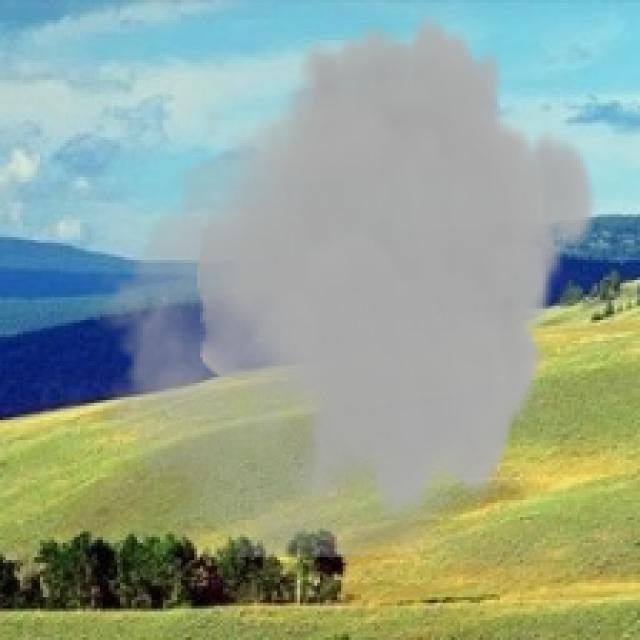Smoke: (85, 11, 600, 558)
